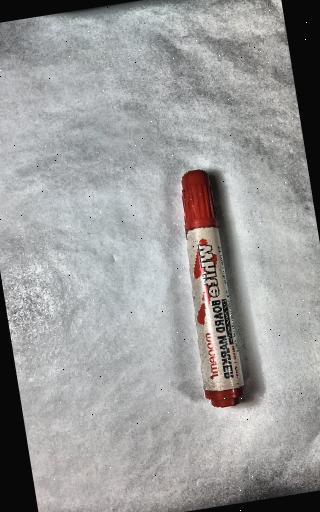marcador rojo: (182, 170, 245, 406)
